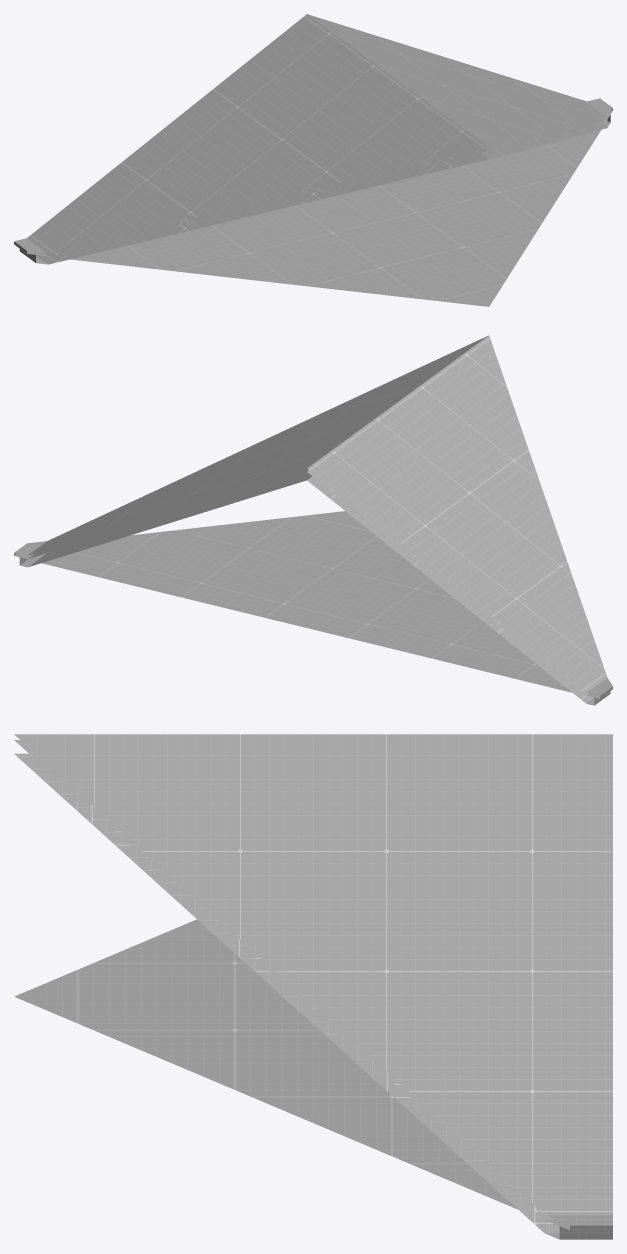
The model's file is Roof.003.fbx.
The picture shows the model from 3 angles, top to bottom: view 1: azimuth 30°, elevation 25°; view 2: azimuth 150°, elevation 25°; view 3: azimuth 270°, elevation 25°; orthographic projection. The views are drawn at different scales.
Parts seen in each view (by area): view 1: Roof.003; view 2: Roof.003; view 3: Roof.003.
Part boxes in pixels (x1,y1,x2,y2): Roof.003: (14, 14, 612, 306); Roof.003: (14, 335, 612, 705); Roof.003: (14, 734, 612, 1239).
Size of the model in its own units: 706 by 192 by 380.
